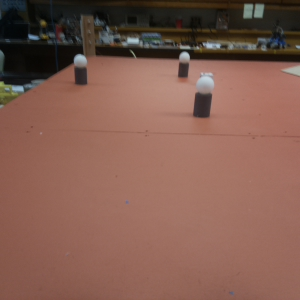obstacle: (194, 78, 213, 120), (74, 56, 89, 88), (178, 51, 189, 79)
